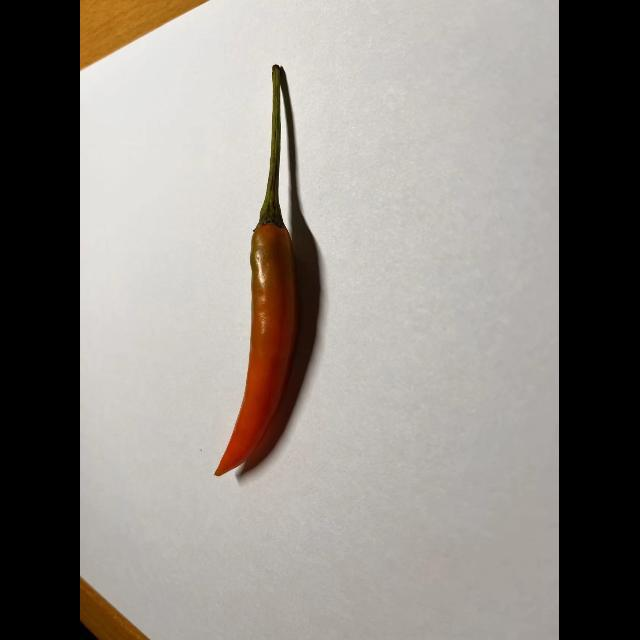chili_pepper: (209, 63, 310, 480)
